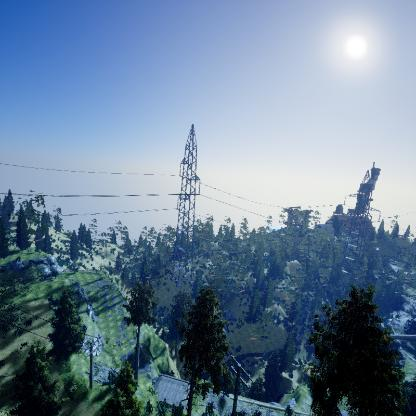tower: (341, 168, 384, 277), (173, 122, 203, 256)
